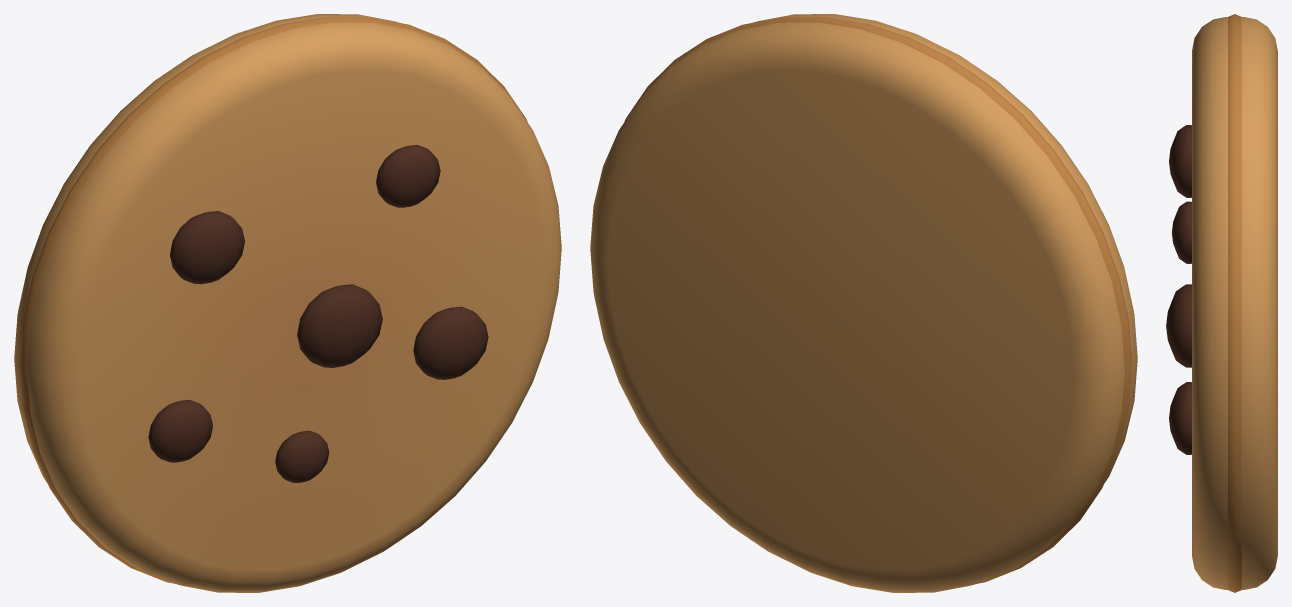
The model's file is cookie.glb.
3 renders of one model, left to right at view 1: azimuth 30°, elevation 25°; view 2: azimuth 150°, elevation 25°; view 3: azimuth 270°, elevation 25°, orthographic. The views are drawn at different scales.
Visible parts, largest first — view 1: disc, c4a2a1e, edge; view 2: disc, edge; view 3: disc, edge, c4a2a1e.
Part boxes in pixels (bbox=[...]): disc: bbox=[14, 14, 561, 592]; c4a2a1e: bbox=[148, 145, 488, 482]; edge: bbox=[19, 17, 527, 583]; disc: bbox=[590, 14, 1137, 592]; edge: bbox=[624, 17, 1132, 583]; disc: bbox=[1192, 17, 1277, 589]; edge: bbox=[1228, 14, 1241, 592]; c4a2a1e: bbox=[1166, 125, 1191, 454].
Size of the model in its own units: 1.01 by 1.01 by 0.195.
